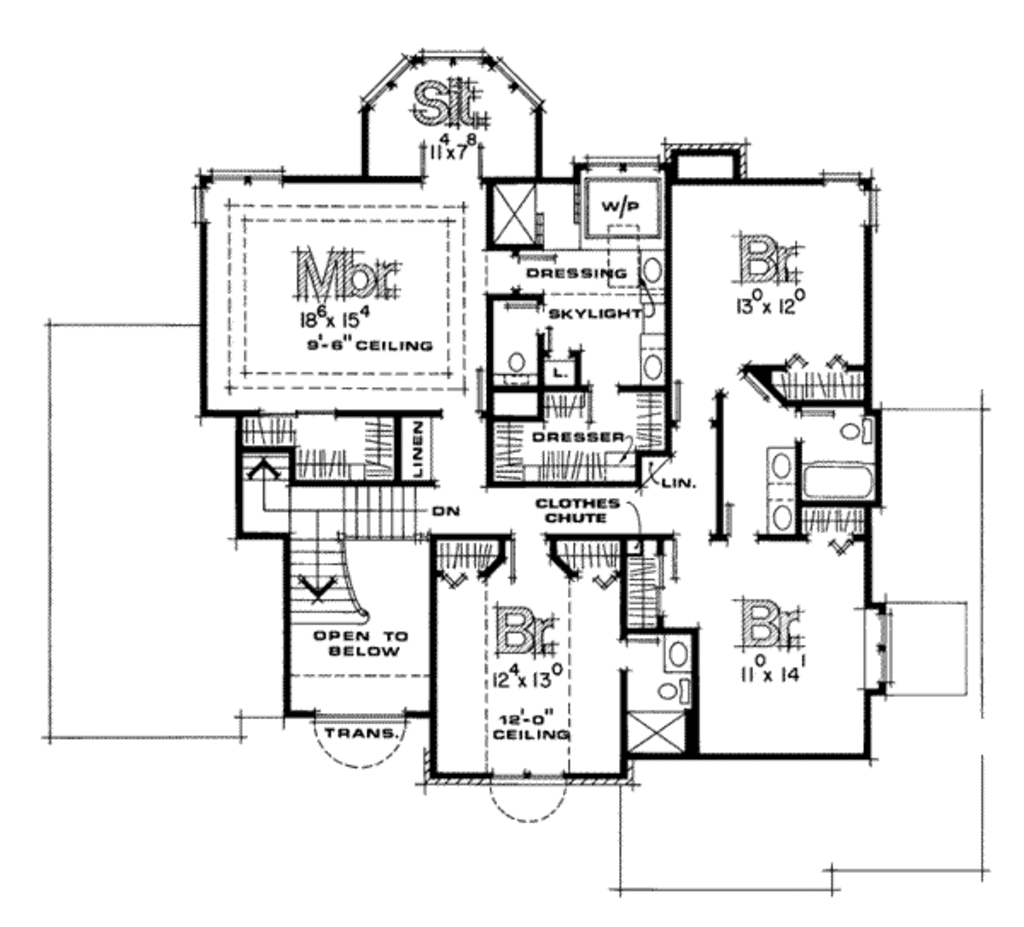large_sink: (652, 674, 698, 709), (835, 414, 882, 448), (501, 349, 530, 390)
small_sink: (763, 445, 800, 535), (641, 333, 684, 386), (638, 237, 670, 294), (659, 631, 696, 670)
stairs: (243, 447, 439, 542), (286, 502, 376, 635)
window: (200, 165, 286, 189), (861, 179, 884, 229), (818, 171, 859, 183)
